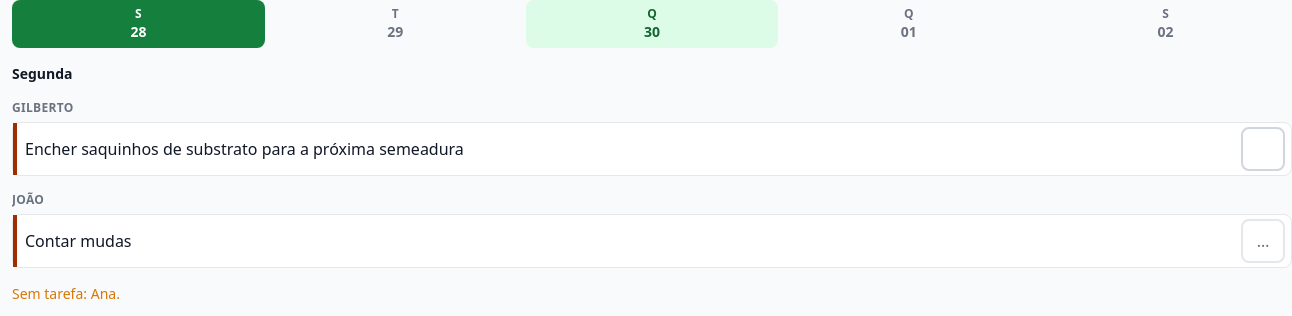
Test case: AgendaDiaCelular (RNF-03, RF-40) › sem rede, o toque fica guardado no aparelho
Click the button named "Marcar Encher saquinhos" at (1263, 149), box [1241,127,1285,171]
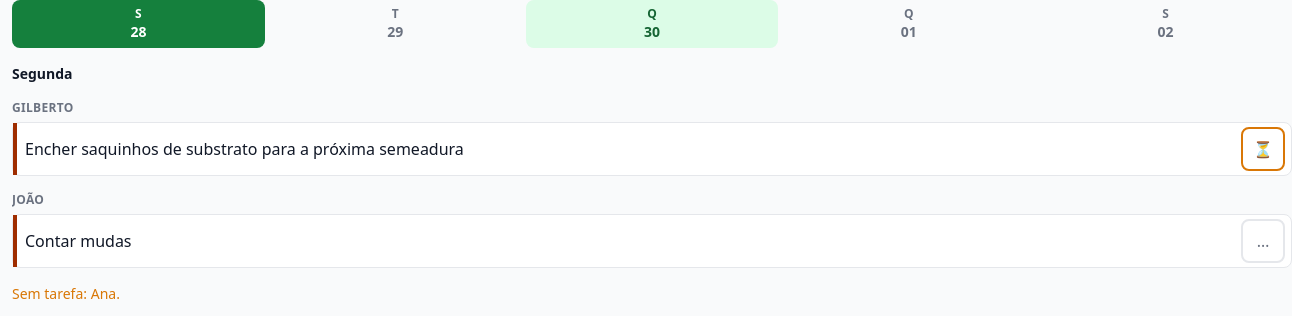
Expected: the picture named "Guardado no aparelho" is shown, [1241,127,1285,171]
